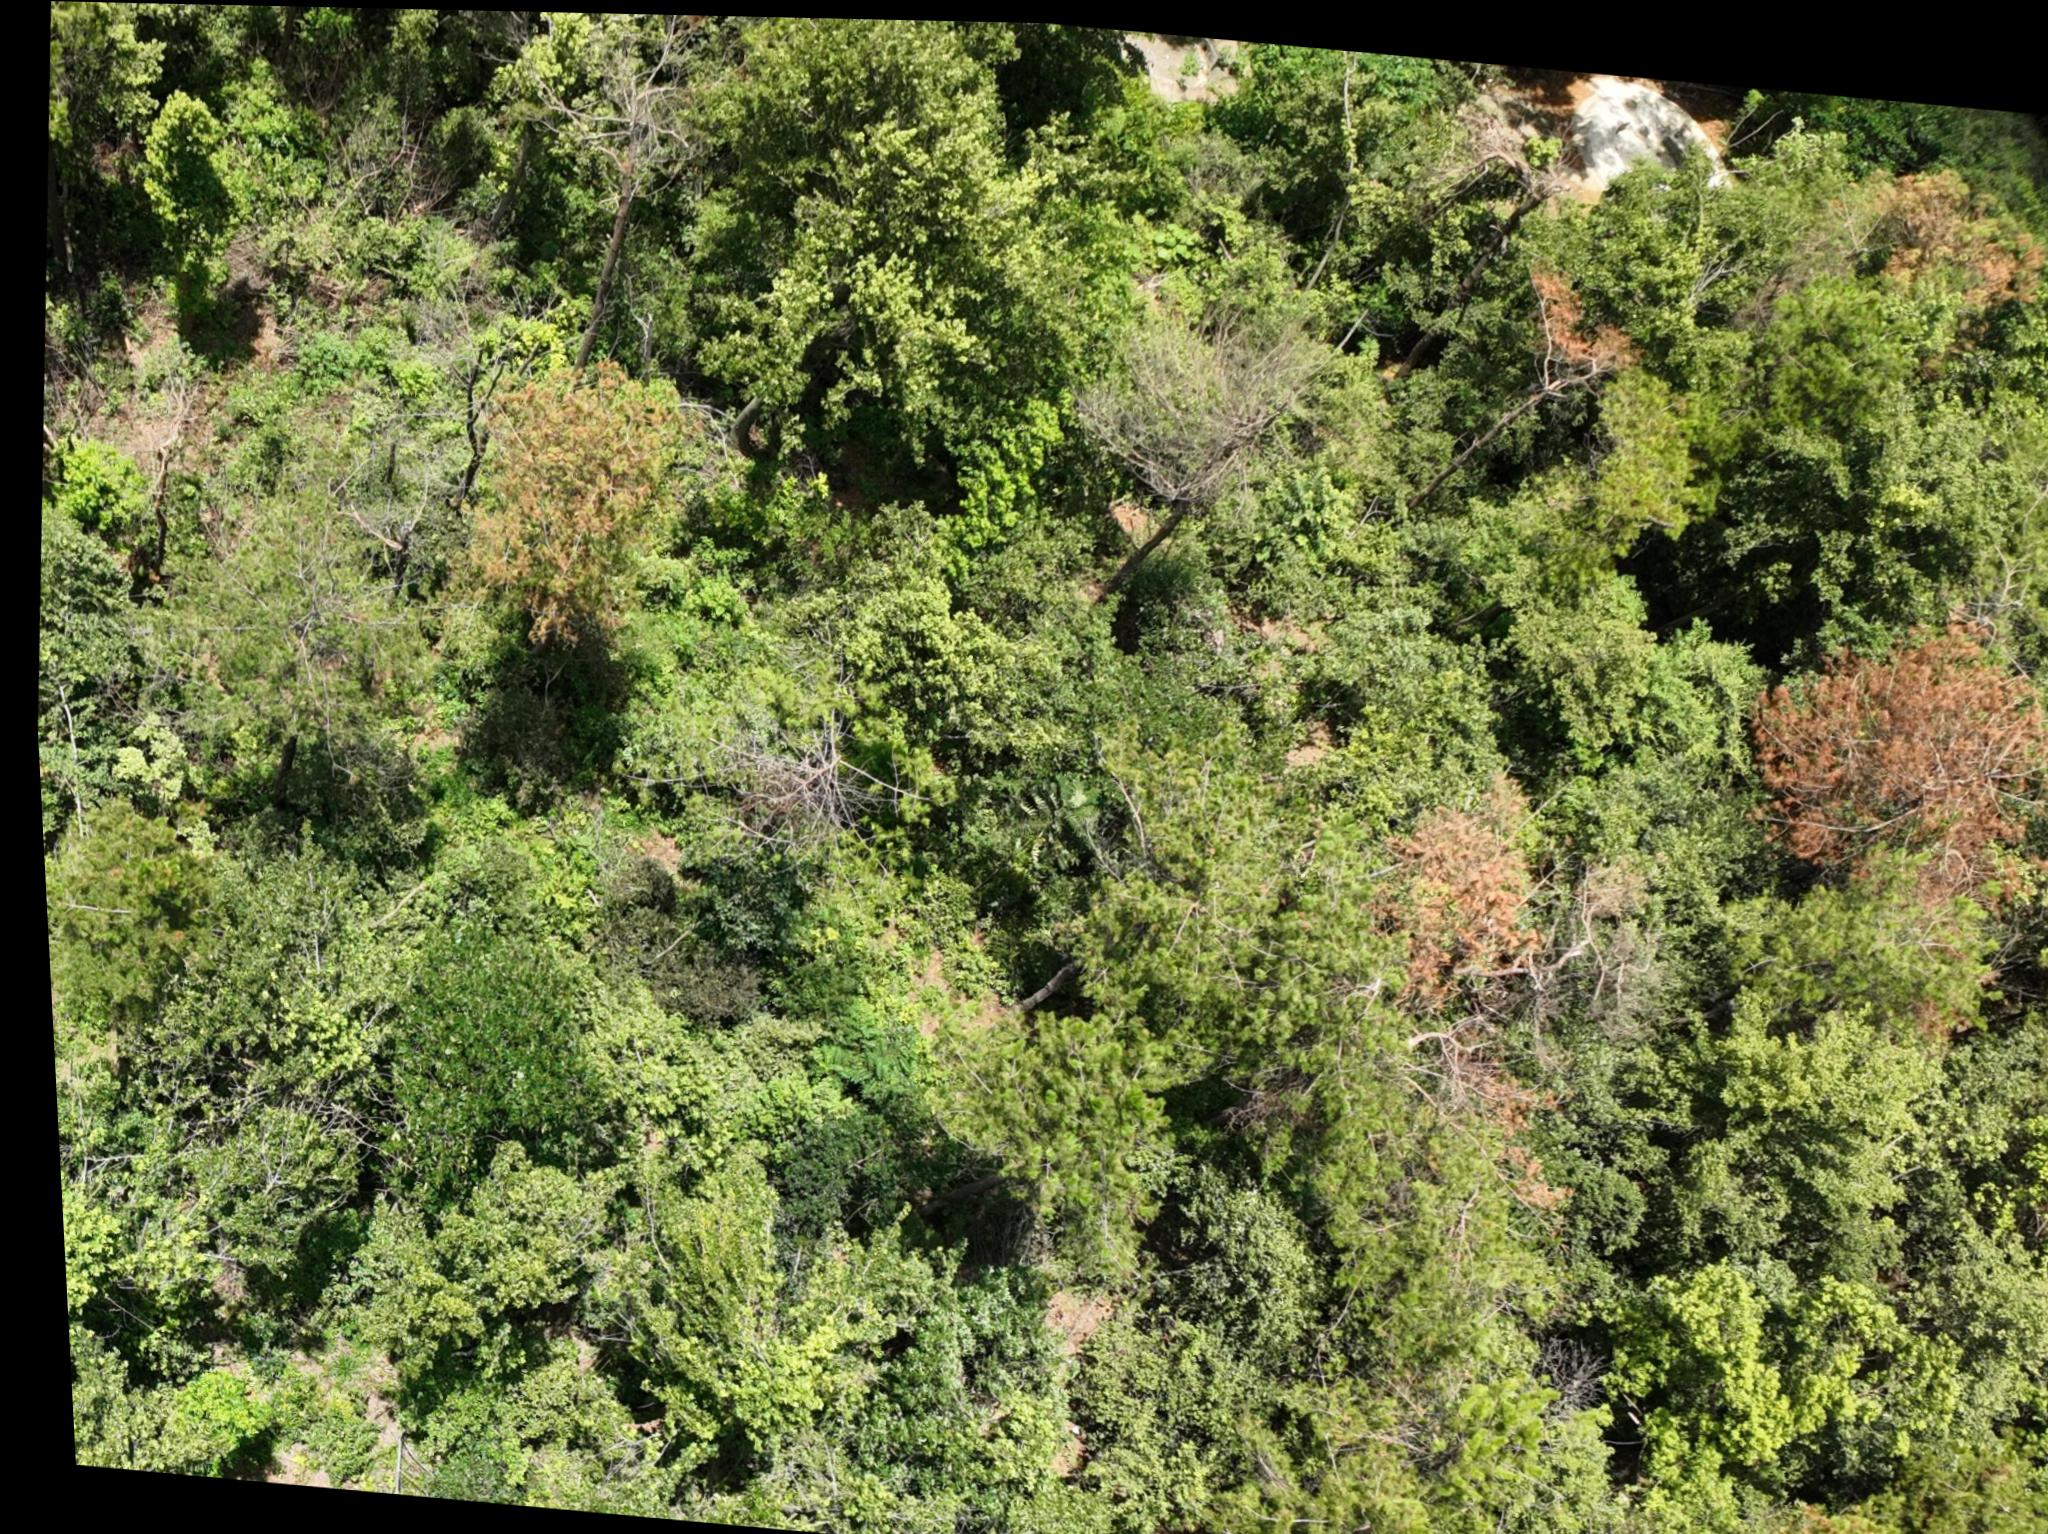dead: (703, 723, 872, 859)
heavy: (1739, 582, 2048, 909), (445, 351, 677, 640), (1366, 769, 1540, 1002), (1864, 148, 2048, 314), (1516, 261, 1642, 379)
light: (1068, 293, 1315, 522), (1735, 1490, 1977, 1534)
